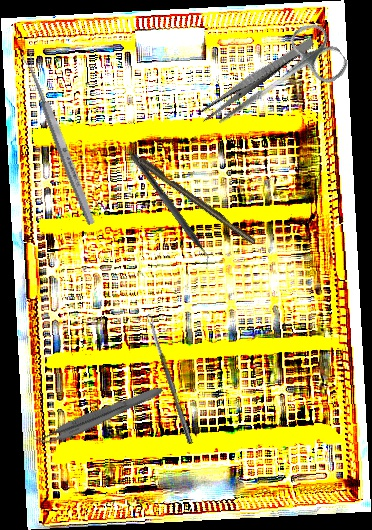Chopper: (123, 153, 218, 271)
Dressing Forceps: (196, 34, 316, 124)
Hook Surgical: (119, 143, 257, 246)
Iris Scissors: (201, 16, 353, 151)
Surgical Spoon: (20, 51, 98, 227), (146, 313, 194, 445)
Tissue Forceps: (32, 377, 165, 453)
